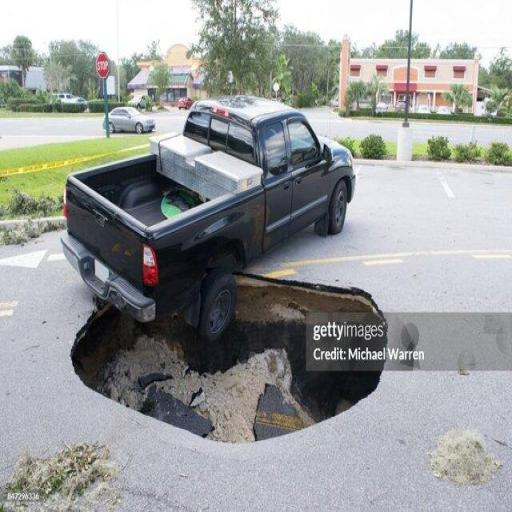Concentric_Crack: (72, 275, 386, 442)
